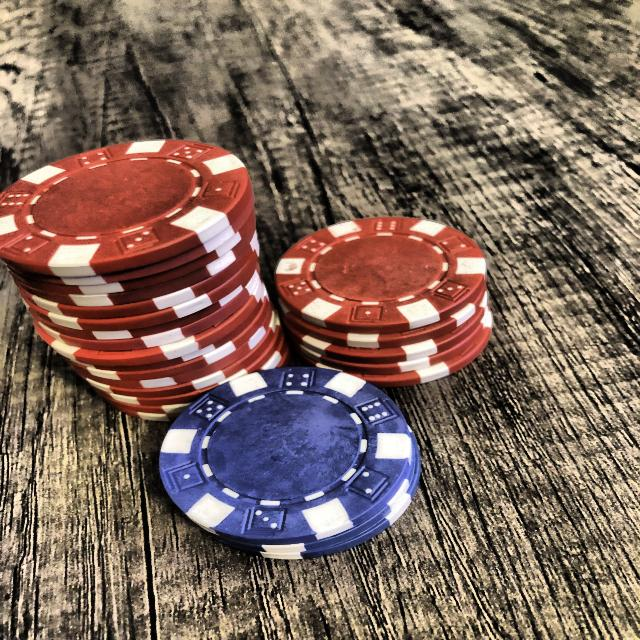Chip: (0, 137, 290, 423), (157, 364, 426, 561), (275, 216, 495, 386)
